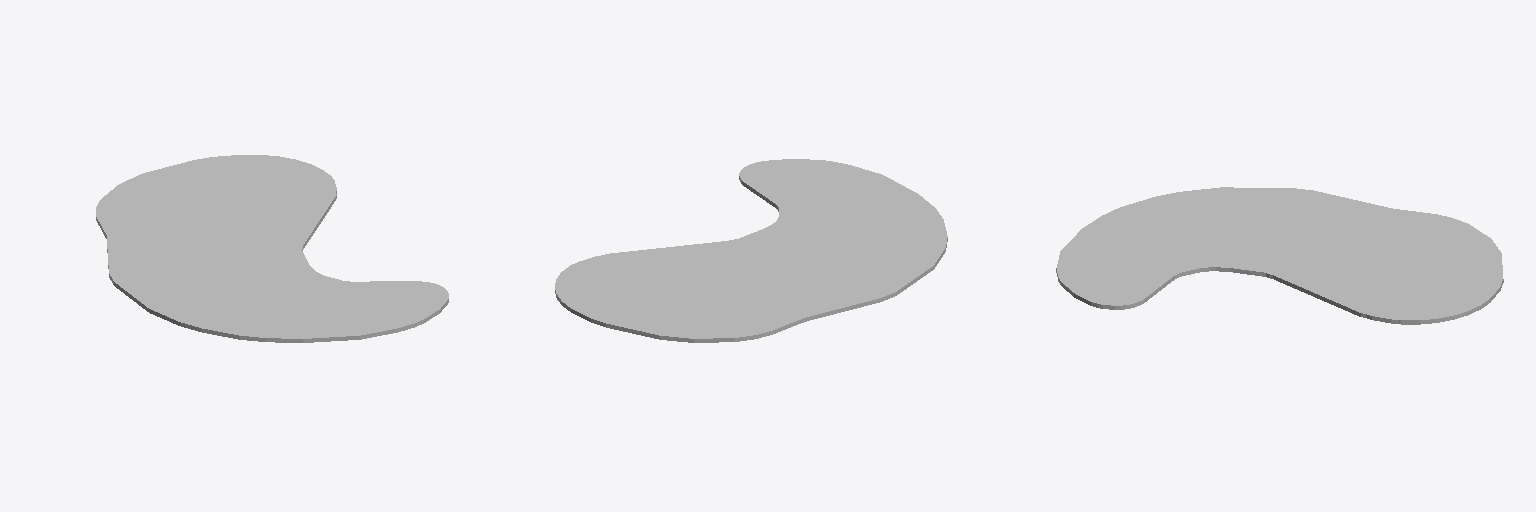
The model's file is gas4col.obj.
3 views of the same model, side by side, from view 1: azimuth 30°, elevation 25°; view 2: azimuth 150°, elevation 25°; view 3: azimuth 270°, elevation 25° (orthographic).
Parts seen in each view (by area): view 1: path819; view 2: path819; view 3: path819.
Boxes of the visible parts, x1=… form: path819: x1=96, y1=155, x2=448, y2=342; path819: x1=555, y1=159, x2=947, y2=342; path819: x1=1056, y1=187, x2=1503, y2=324.
Bounding box in the file's own units: 1.64 × 0.0238 × 2.33.